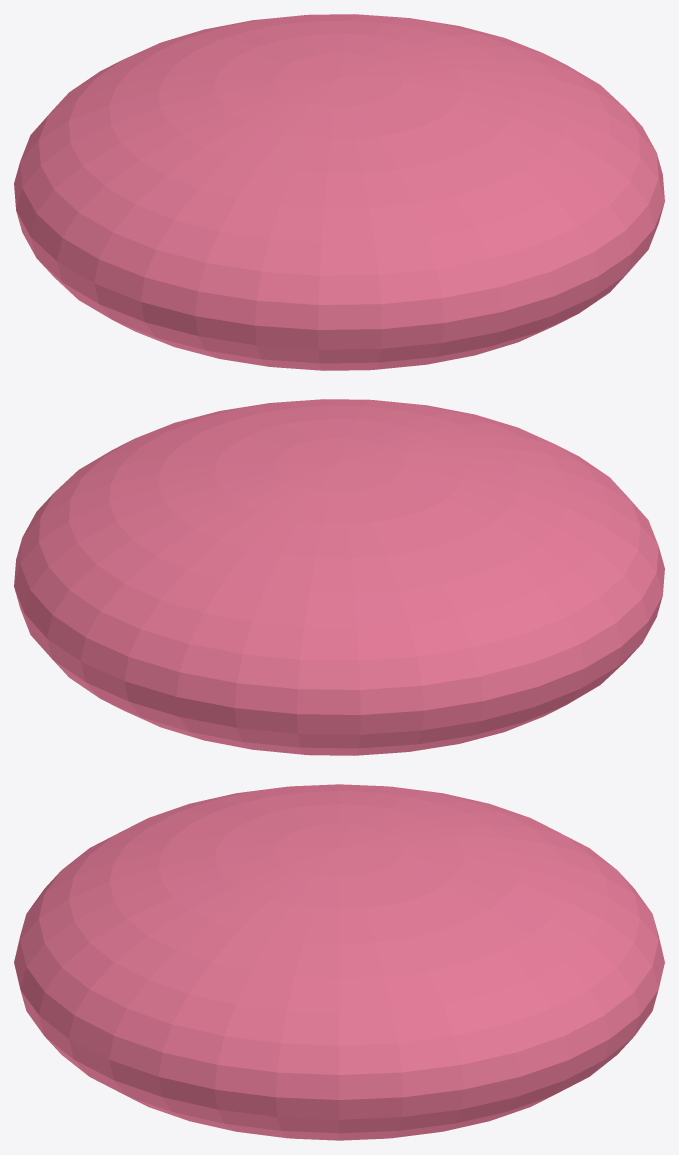
The model's file is NeurolinkSlipCell.fbx.
3 views of the same model, one above another, from view 1: azimuth 30°, elevation 25°; view 2: azimuth 150°, elevation 25°; view 3: azimuth 270°, elevation 25° (orthographic).
Visible parts, largest first — view 1: Slipcell; view 2: Slipcell; view 3: Slipcell.
Part boxes in pixels (box(x1,y1,x2,y2)): Slipcell: box(14, 14, 664, 370); Slipcell: box(14, 399, 664, 755); Slipcell: box(14, 784, 664, 1140).
Bounding box in the file's own units: 580 × 225 × 580.
